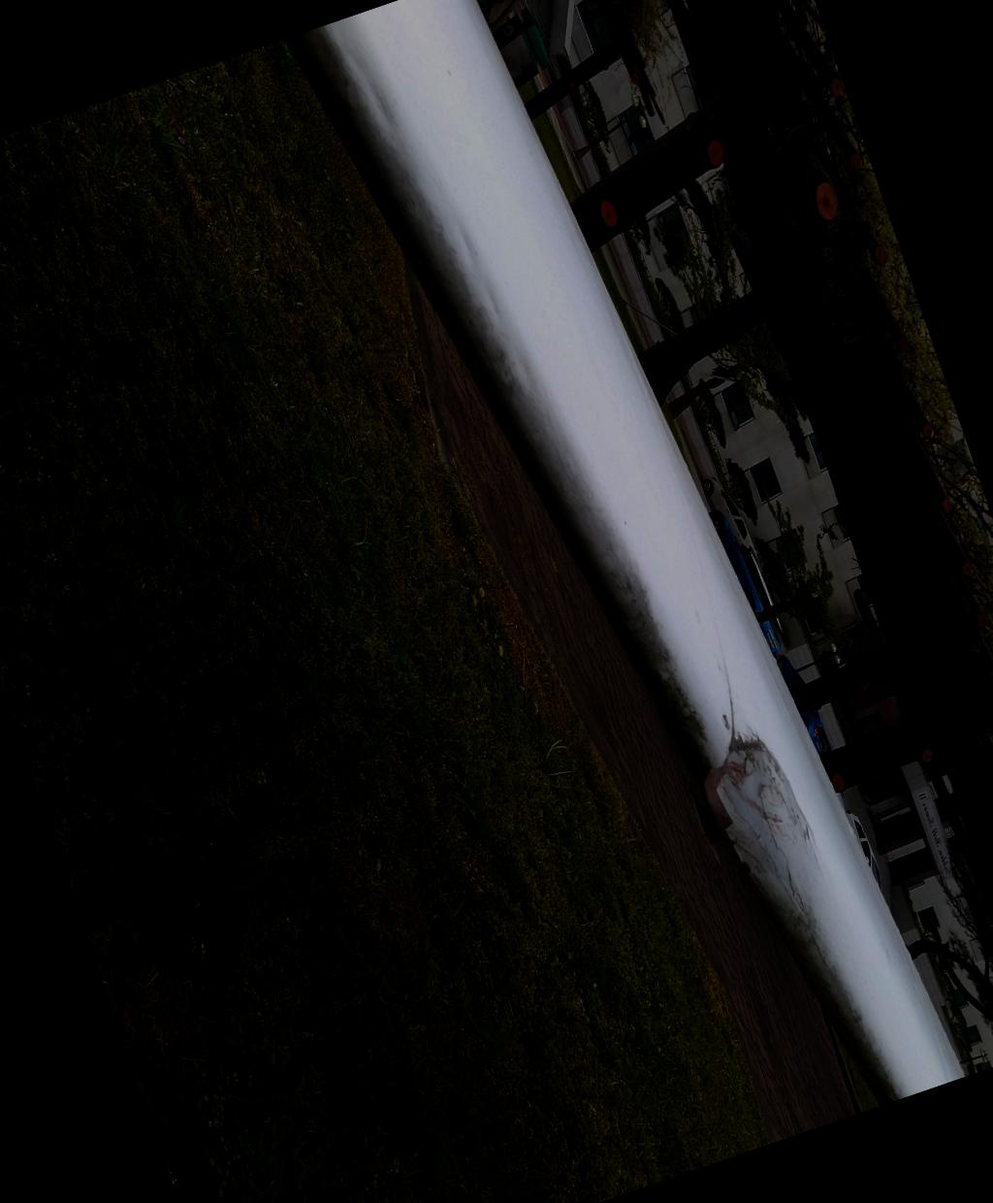corrosion: (860, 564, 993, 780)
